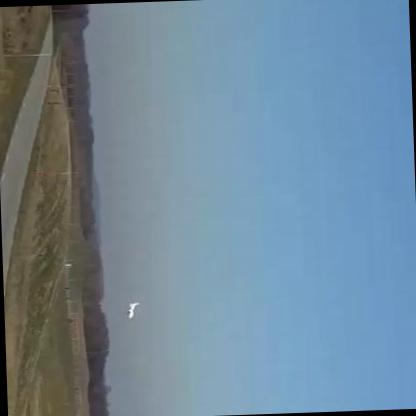plane: (127, 301, 142, 319)
